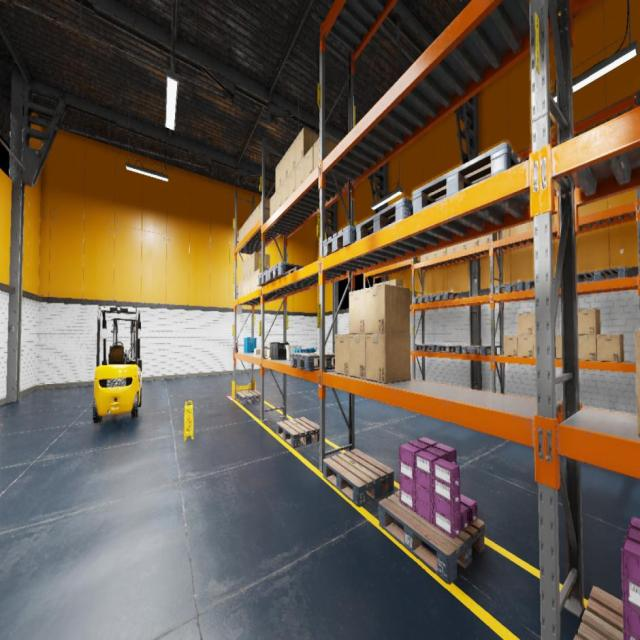box: (365, 284, 410, 333), (366, 333, 410, 383), (313, 133, 345, 177), (296, 126, 320, 166), (349, 334, 366, 379), (596, 335, 624, 362), (349, 288, 365, 334), (335, 334, 349, 376), (578, 308, 600, 334), (635, 330, 640, 437), (532, 312, 555, 334), (533, 335, 556, 357), (578, 335, 597, 360), (250, 252, 270, 274), (518, 335, 533, 357), (304, 146, 313, 181), (518, 312, 532, 334), (504, 335, 518, 356), (296, 157, 304, 190), (258, 198, 270, 220), (288, 140, 295, 177), (259, 267, 271, 288), (281, 150, 288, 184), (479, 233, 497, 246), (288, 168, 295, 198), (275, 160, 281, 192), (281, 178, 288, 205), (275, 185, 281, 211), (556, 335, 562, 359), (270, 192, 275, 216), (466, 238, 478, 248), (410, 291, 417, 304), (390, 279, 403, 286), (447, 245, 456, 255), (456, 242, 466, 251), (254, 269, 258, 291), (256, 203, 260, 224), (437, 248, 446, 257), (247, 256, 251, 276), (428, 250, 436, 260), (247, 275, 251, 294), (251, 210, 255, 228), (244, 219, 248, 236), (420, 254, 428, 262), (260, 350, 270, 356), (251, 272, 254, 292), (404, 256, 417, 260), (248, 215, 251, 232), (244, 278, 247, 295), (238, 281, 241, 298), (239, 227, 242, 243), (245, 259, 247, 278), (242, 262, 244, 280), (242, 223, 244, 240), (242, 279, 244, 296), (254, 349, 260, 354), (384, 280, 389, 284), (267, 350, 270, 356), (372, 283, 378, 286), (378, 282, 383, 285)
forklift: (94, 307, 142, 422)
pallets: (379, 491, 485, 584), (412, 142, 524, 214), (323, 448, 394, 506), (573, 586, 623, 640), (356, 197, 413, 241), (277, 418, 319, 448), (323, 225, 356, 258), (576, 266, 628, 283), (290, 352, 334, 371), (268, 262, 305, 281), (525, 277, 560, 290), (495, 281, 525, 294), (236, 390, 260, 405), (462, 346, 496, 355), (430, 292, 460, 302), (436, 346, 470, 354), (257, 270, 273, 286), (415, 344, 437, 352), (413, 296, 435, 304)
